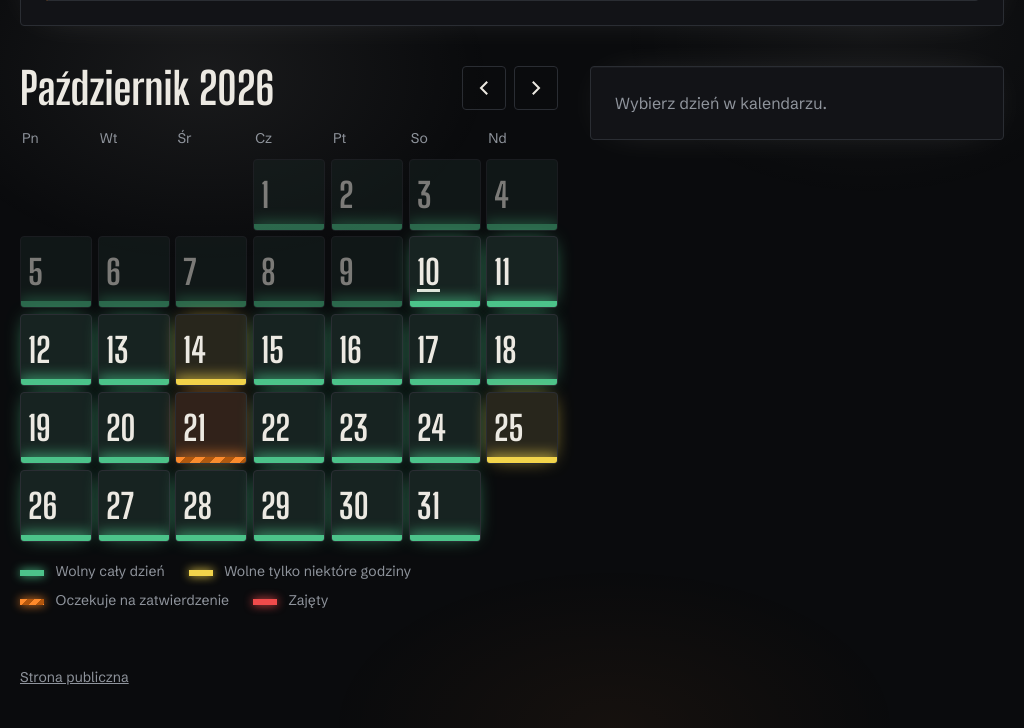
Test: panel admina › zatwierdzone bez wysłanego maila: przycisk „Wyślij e-mail ponownie”
(page scrolled)
Click the button "25".
click(522, 428)  # box [486,392,558,464]
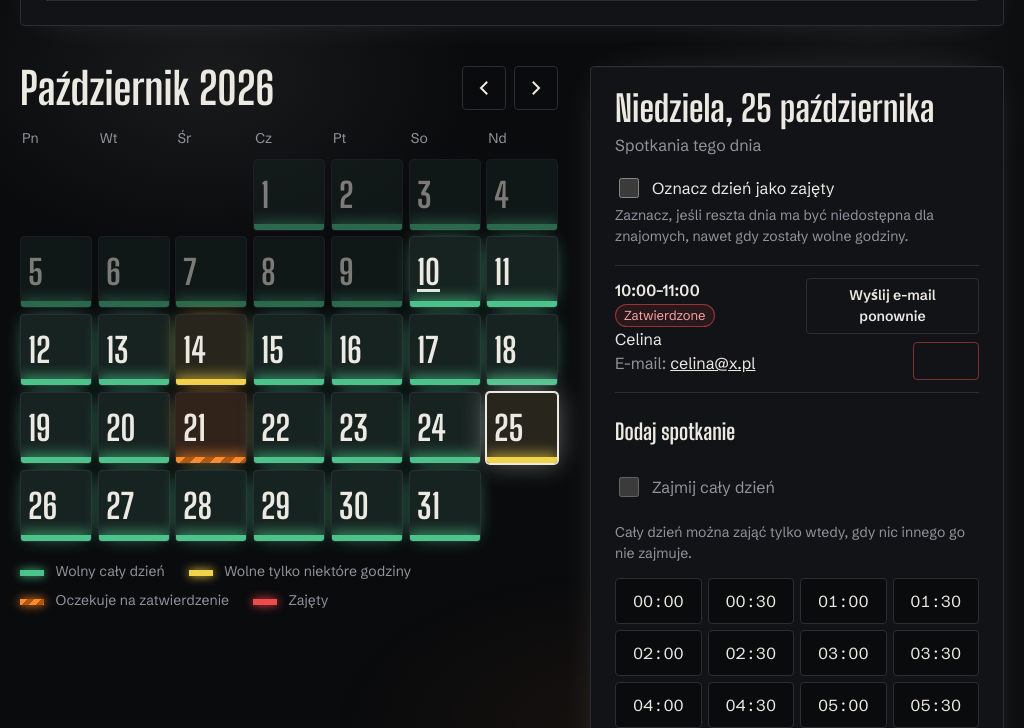
Click the button "Wyślij e-mail ponownie".
click(892, 306)  # box [806,278,979,334]
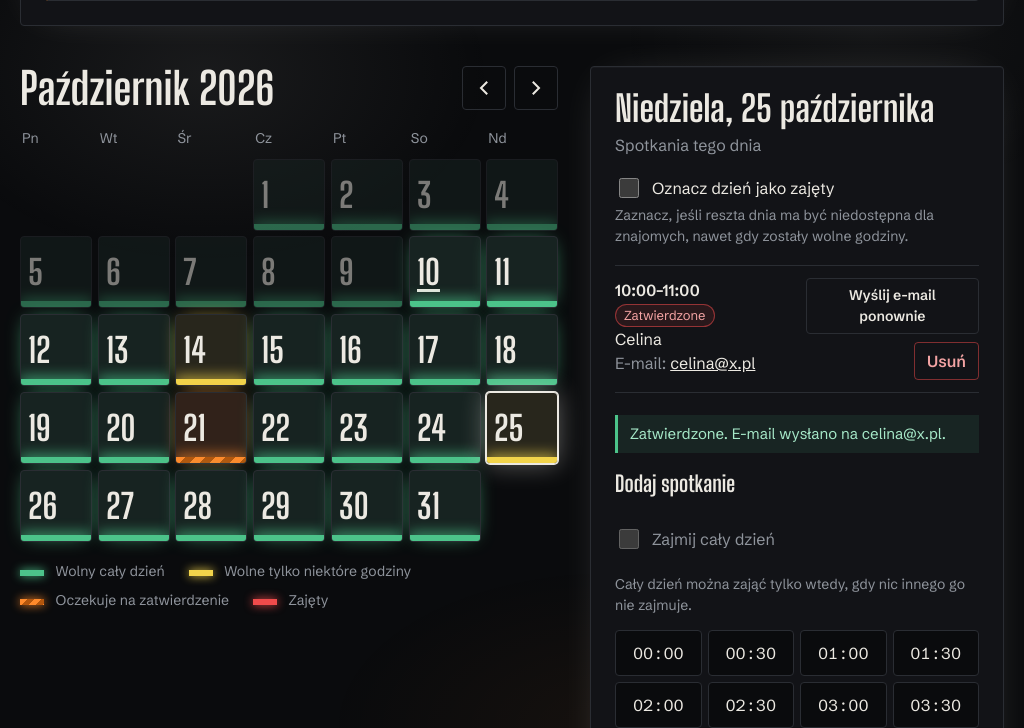
Now the text "Zatwierdzone. E-mail wysłano na celina@x.pl." is shown, box [615,415,979,453]
